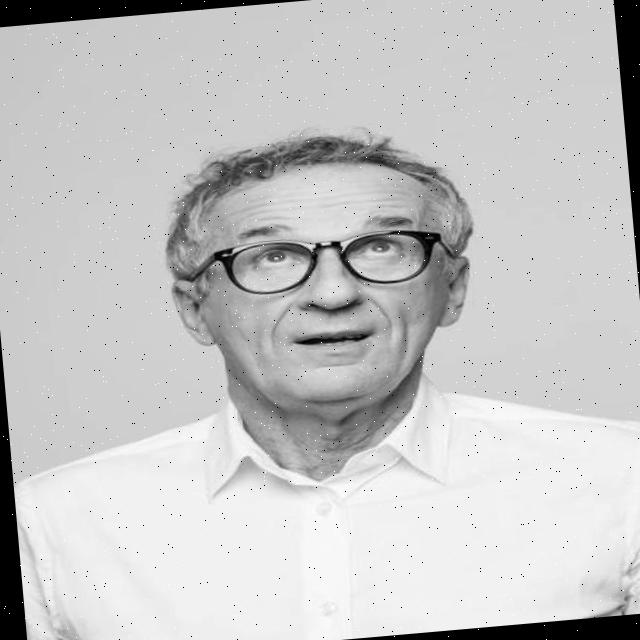Surprised: (197, 152, 455, 432)
